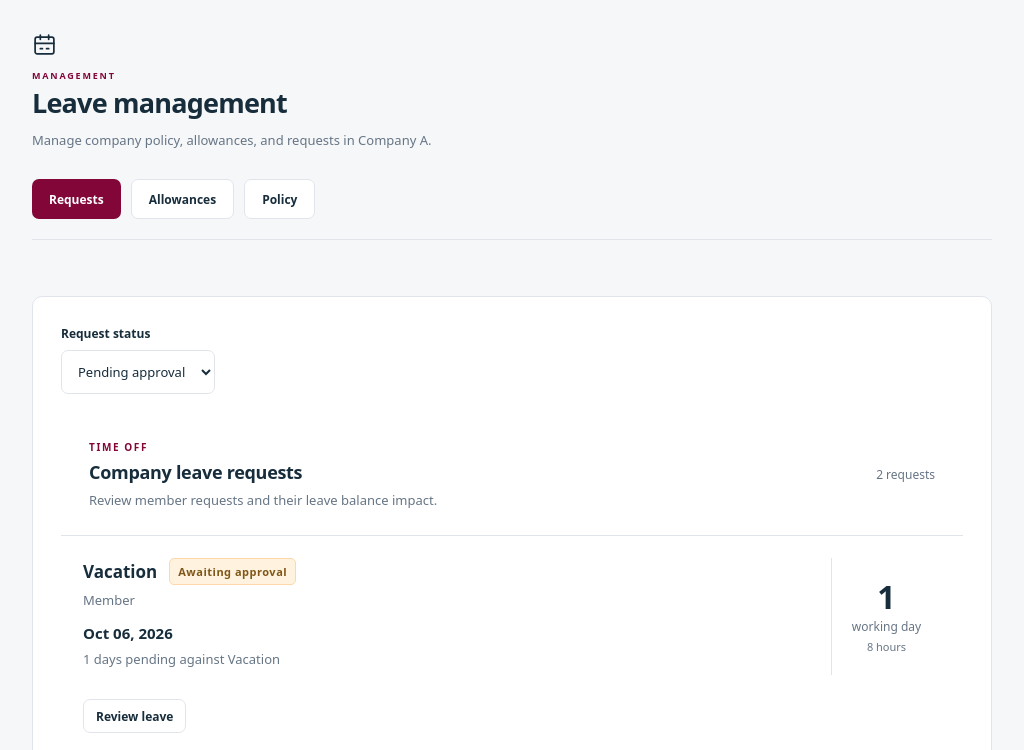
it: blocks self-review and reviews only another company member request with its revision
Click the button "Review leave" at point(135, 716), box x1=83 y1=699 x2=186 y2=733
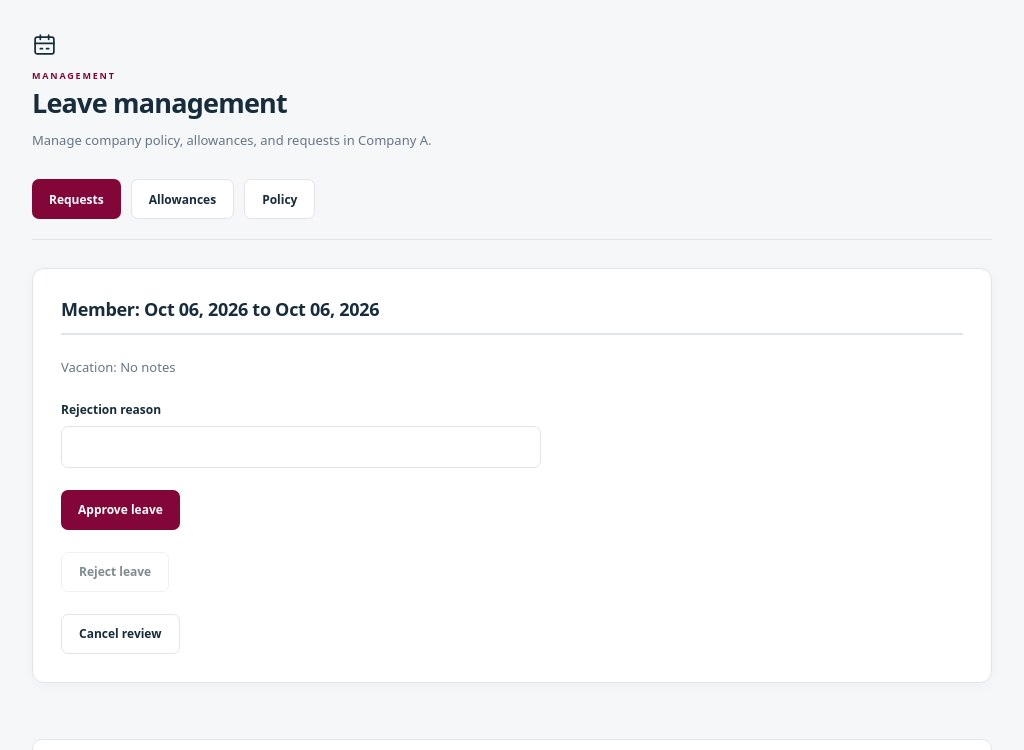
Click the button "Approve leave" at point(120, 510), box x1=61 y1=490 x2=180 y2=530
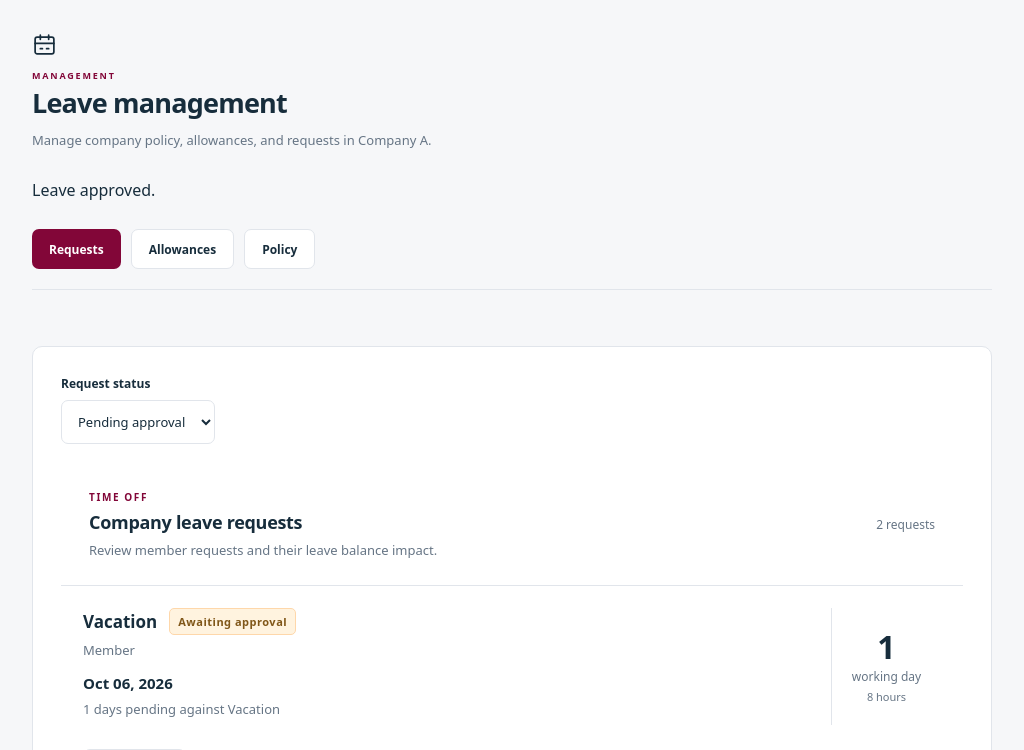
Expected: the text "Leave approved." is shown, x1=32 y1=179 x2=155 y2=201
